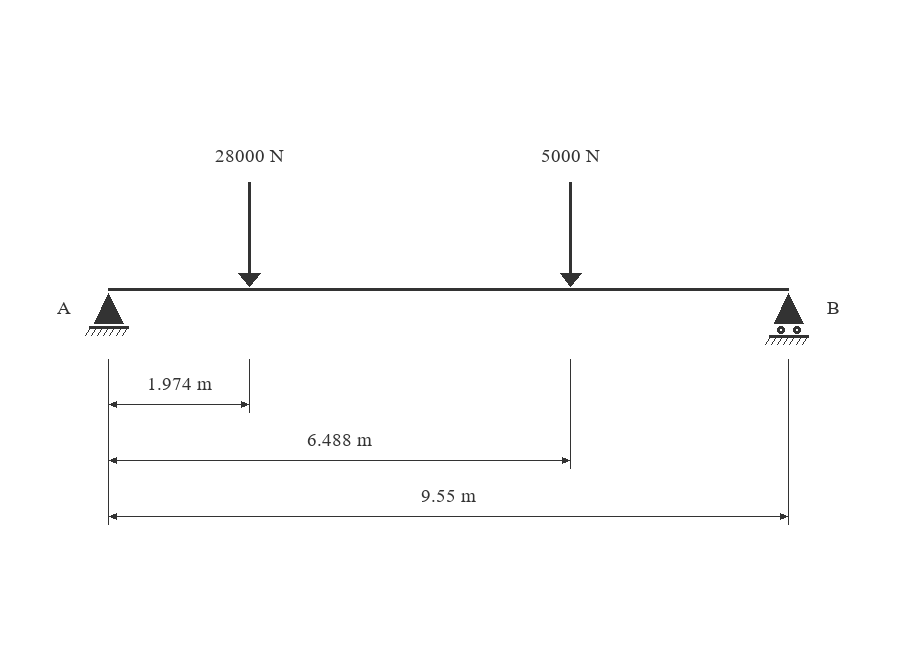pin_support: (85, 293, 129, 336)
point_load: (238, 182, 261, 287), (560, 182, 582, 287)
roller_support: (765, 293, 809, 345)
